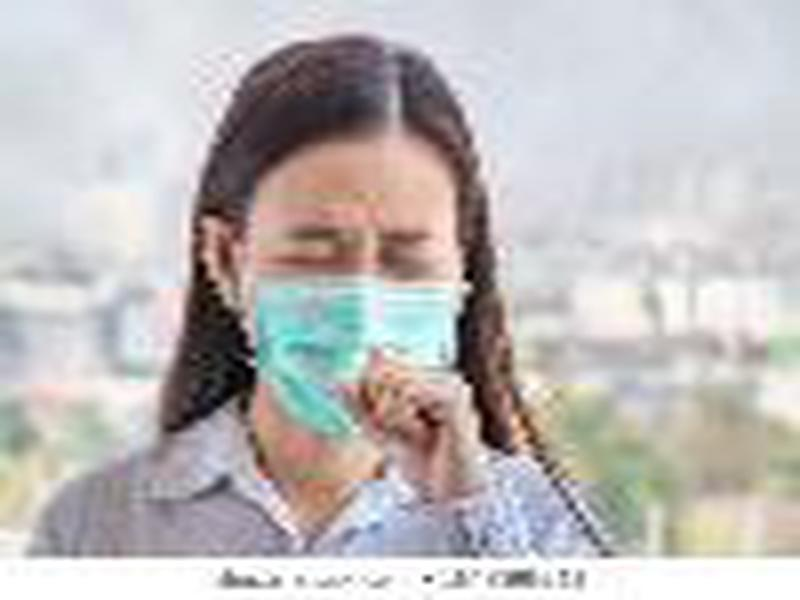with_mask: (239, 133, 464, 433)
